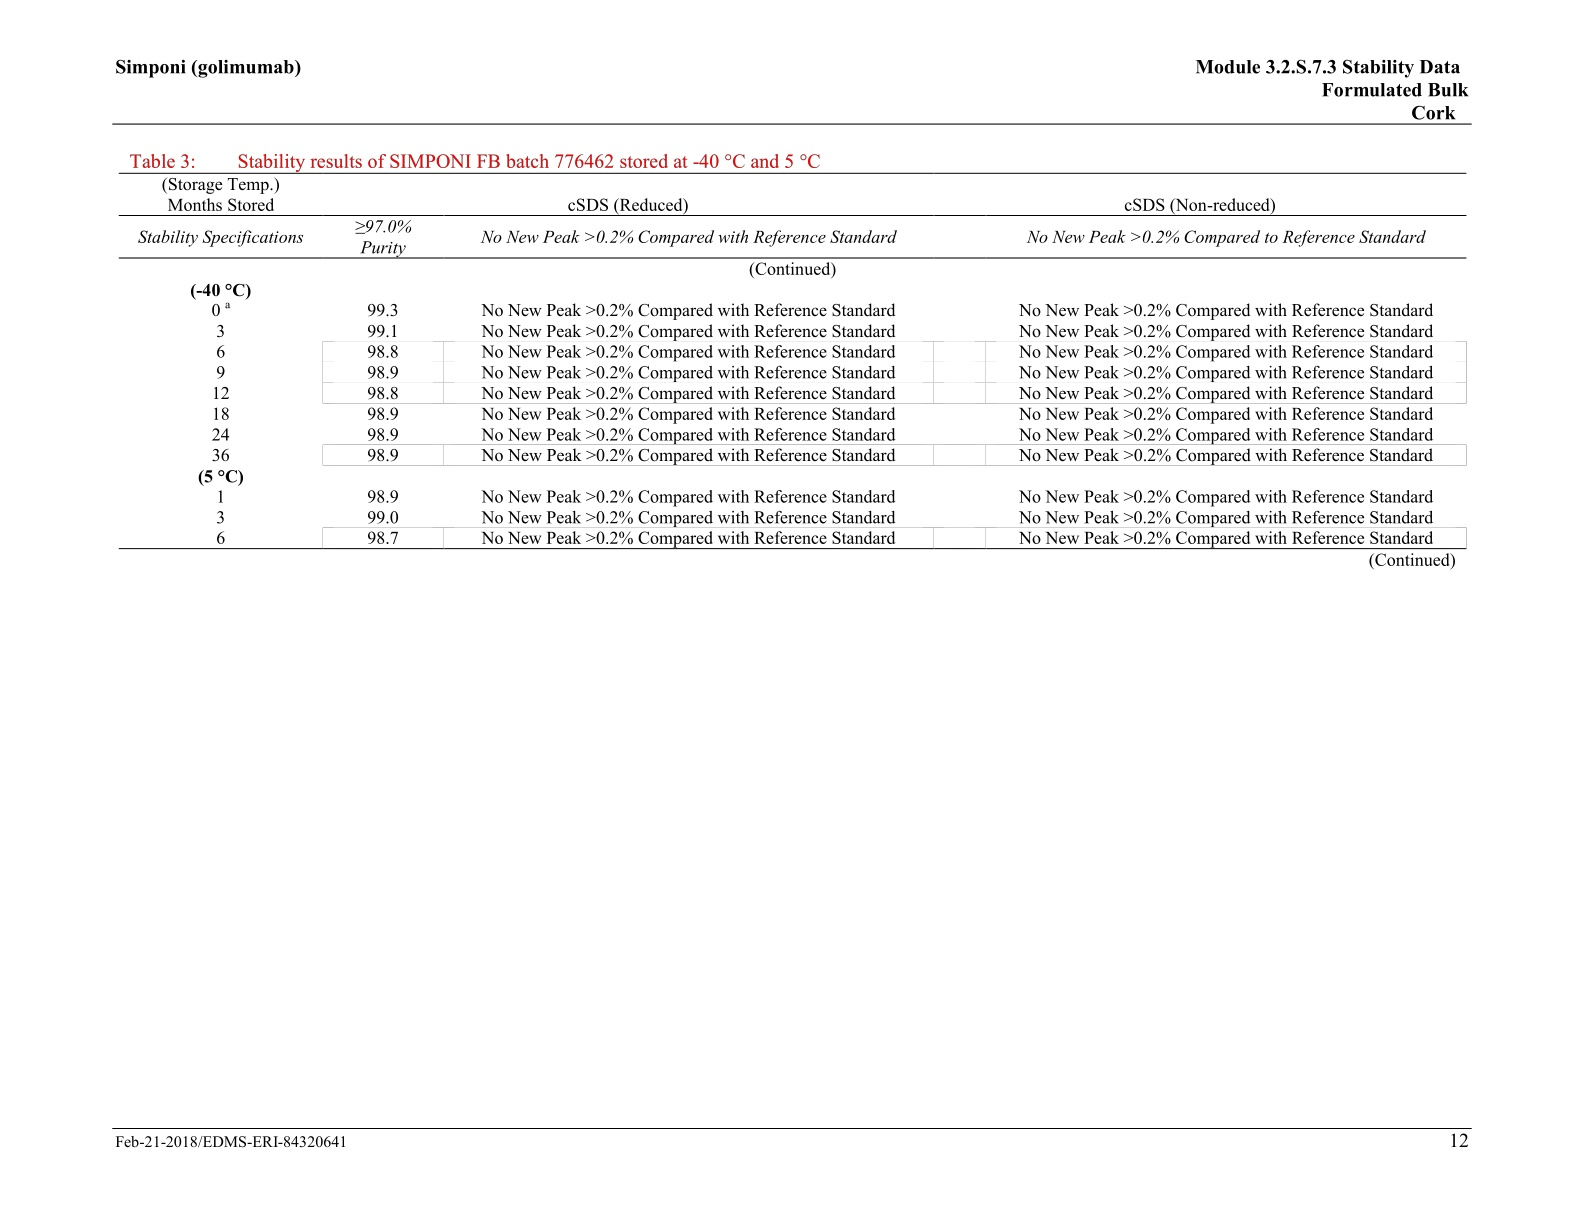partial_lined: (117, 172, 1468, 550)
